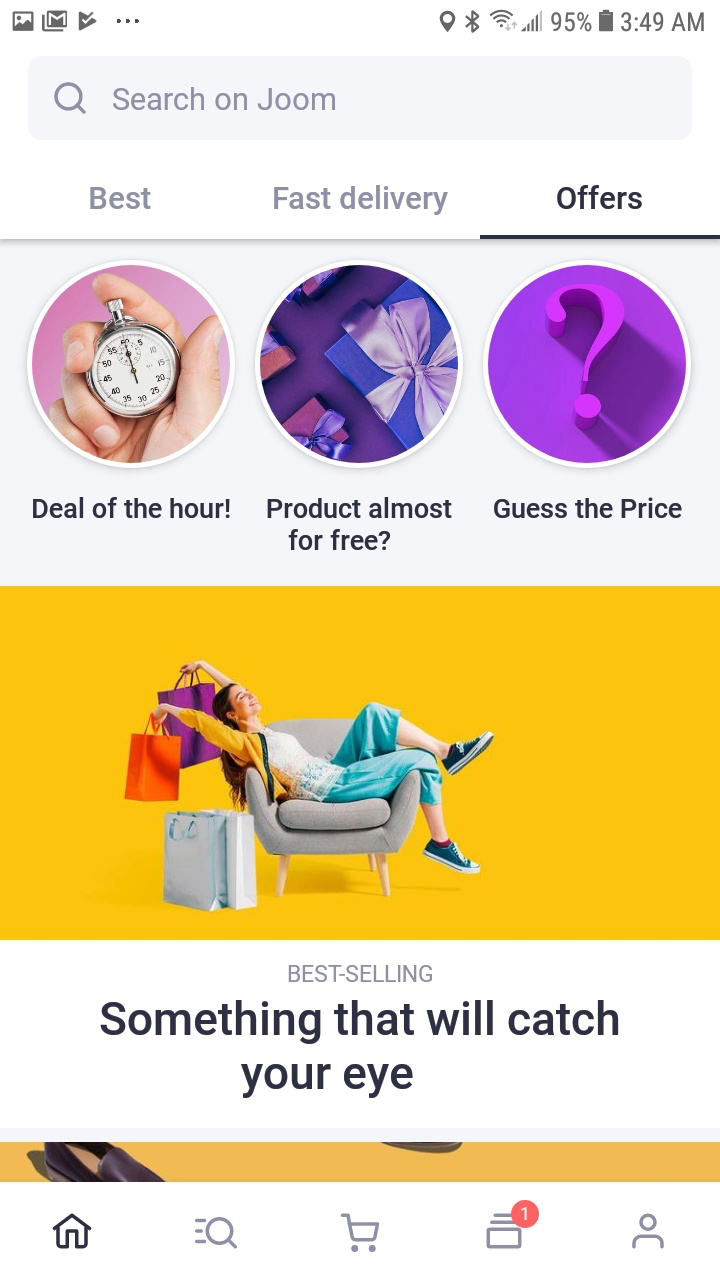EditText: (29, 56, 693, 141)
Icon: (486, 1200, 540, 1250), (340, 1212, 380, 1253), (195, 1216, 239, 1250), (53, 1213, 93, 1250), (632, 1212, 665, 1249), (54, 82, 87, 115)
Image: (1, 586, 720, 940), (483, 260, 693, 470), (28, 260, 237, 469), (255, 261, 464, 470), (1, 1142, 720, 1182)
Text: (101, 999, 619, 1099), (267, 496, 453, 551), (274, 185, 449, 216), (114, 88, 336, 112), (33, 497, 231, 520), (494, 497, 683, 519), (288, 963, 433, 983), (557, 185, 643, 211), (90, 187, 152, 211)
UpperTaskBar: (1, 1, 720, 35)
